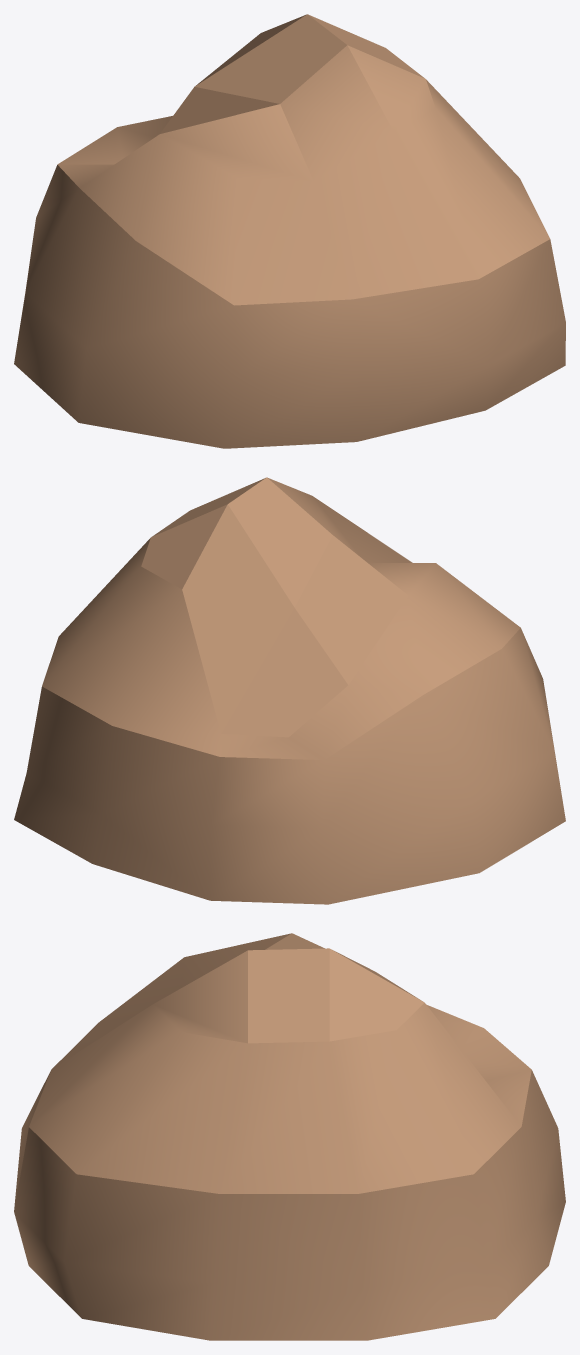
File: Rock1Clean.fbx
3 renders of one model, top to bottom at view 1: azimuth 30°, elevation 25°; view 2: azimuth 150°, elevation 25°; view 3: azimuth 270°, elevation 25°, orthographic. The views are drawn at different scales.
Parts seen in each view (by area): view 1: pCube4; view 2: pCube4; view 3: pCube4.
Part boxes in pixels (x1,y1,x2,y2): pCube4: (14, 14, 565, 448); pCube4: (14, 477, 565, 904); pCube4: (14, 933, 565, 1340).
Bounding box in the file's own units: 1.27 × 0.9485 × 1.27.
